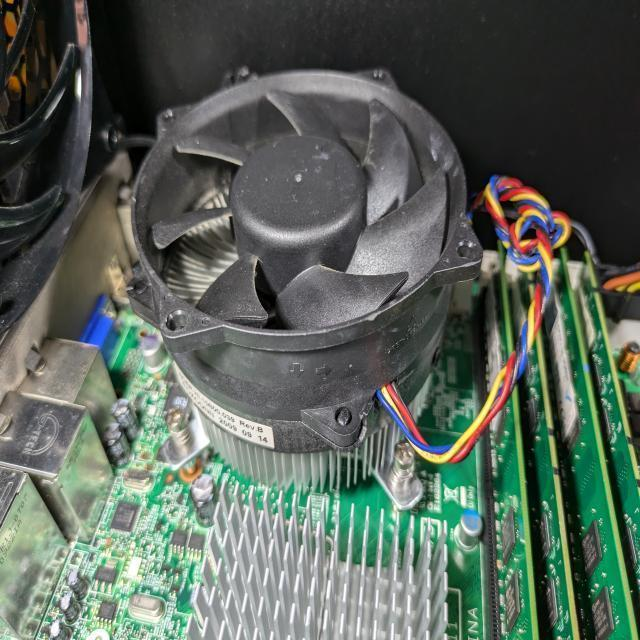CPU_Fan: (127, 65, 483, 499)
Mainboard: (0, 287, 640, 640)
RAM: (540, 250, 640, 640), (512, 274, 581, 640), (578, 250, 640, 640), (486, 240, 538, 640)
